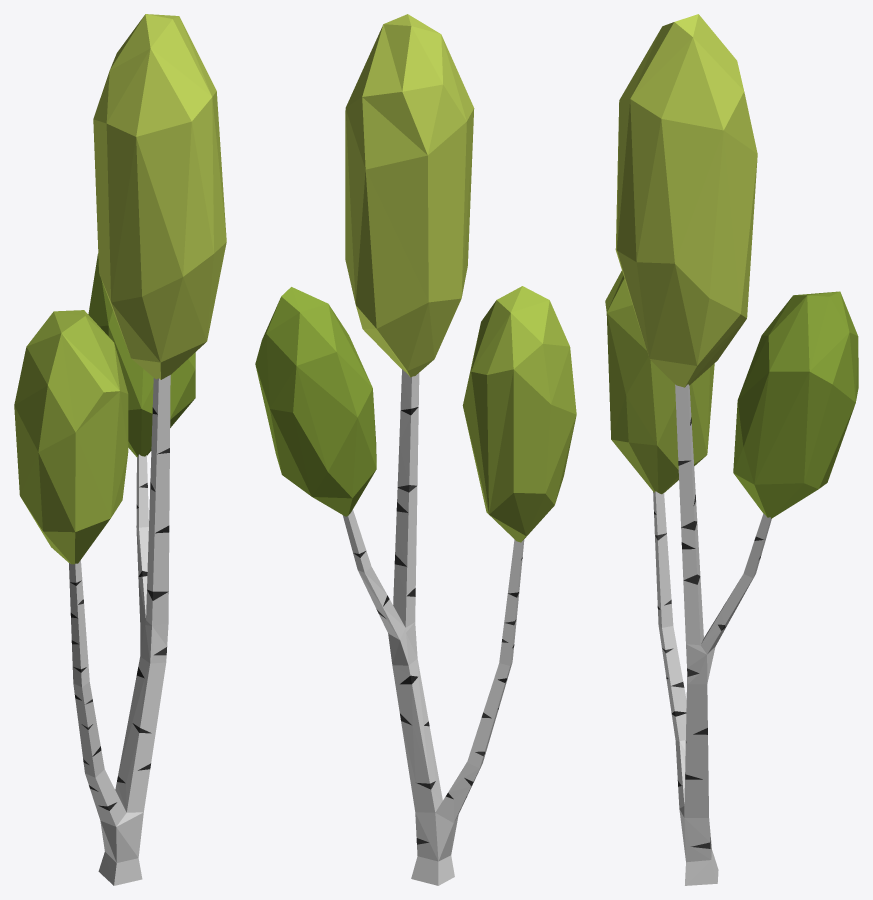
File: Tree_Birch_02.fbx
3 renders of one model, left to right at view 1: azimuth 30°, elevation 25°; view 2: azimuth 150°, elevation 25°; view 3: azimuth 270°, elevation 25°, orthographic. The views are drawn at different scales.
Visible parts, largest first — view 1: Tree_Birch_02; view 2: Tree_Birch_02; view 3: Tree_Birch_02.
Boxes of the visible parts, bbox=[...] form: Tree_Birch_02: bbox=[14, 14, 226, 885]; Tree_Birch_02: bbox=[255, 14, 576, 885]; Tree_Birch_02: bbox=[605, 14, 858, 885].
Size of the model in its own units: 2.63 by 9.19 by 2.41.
